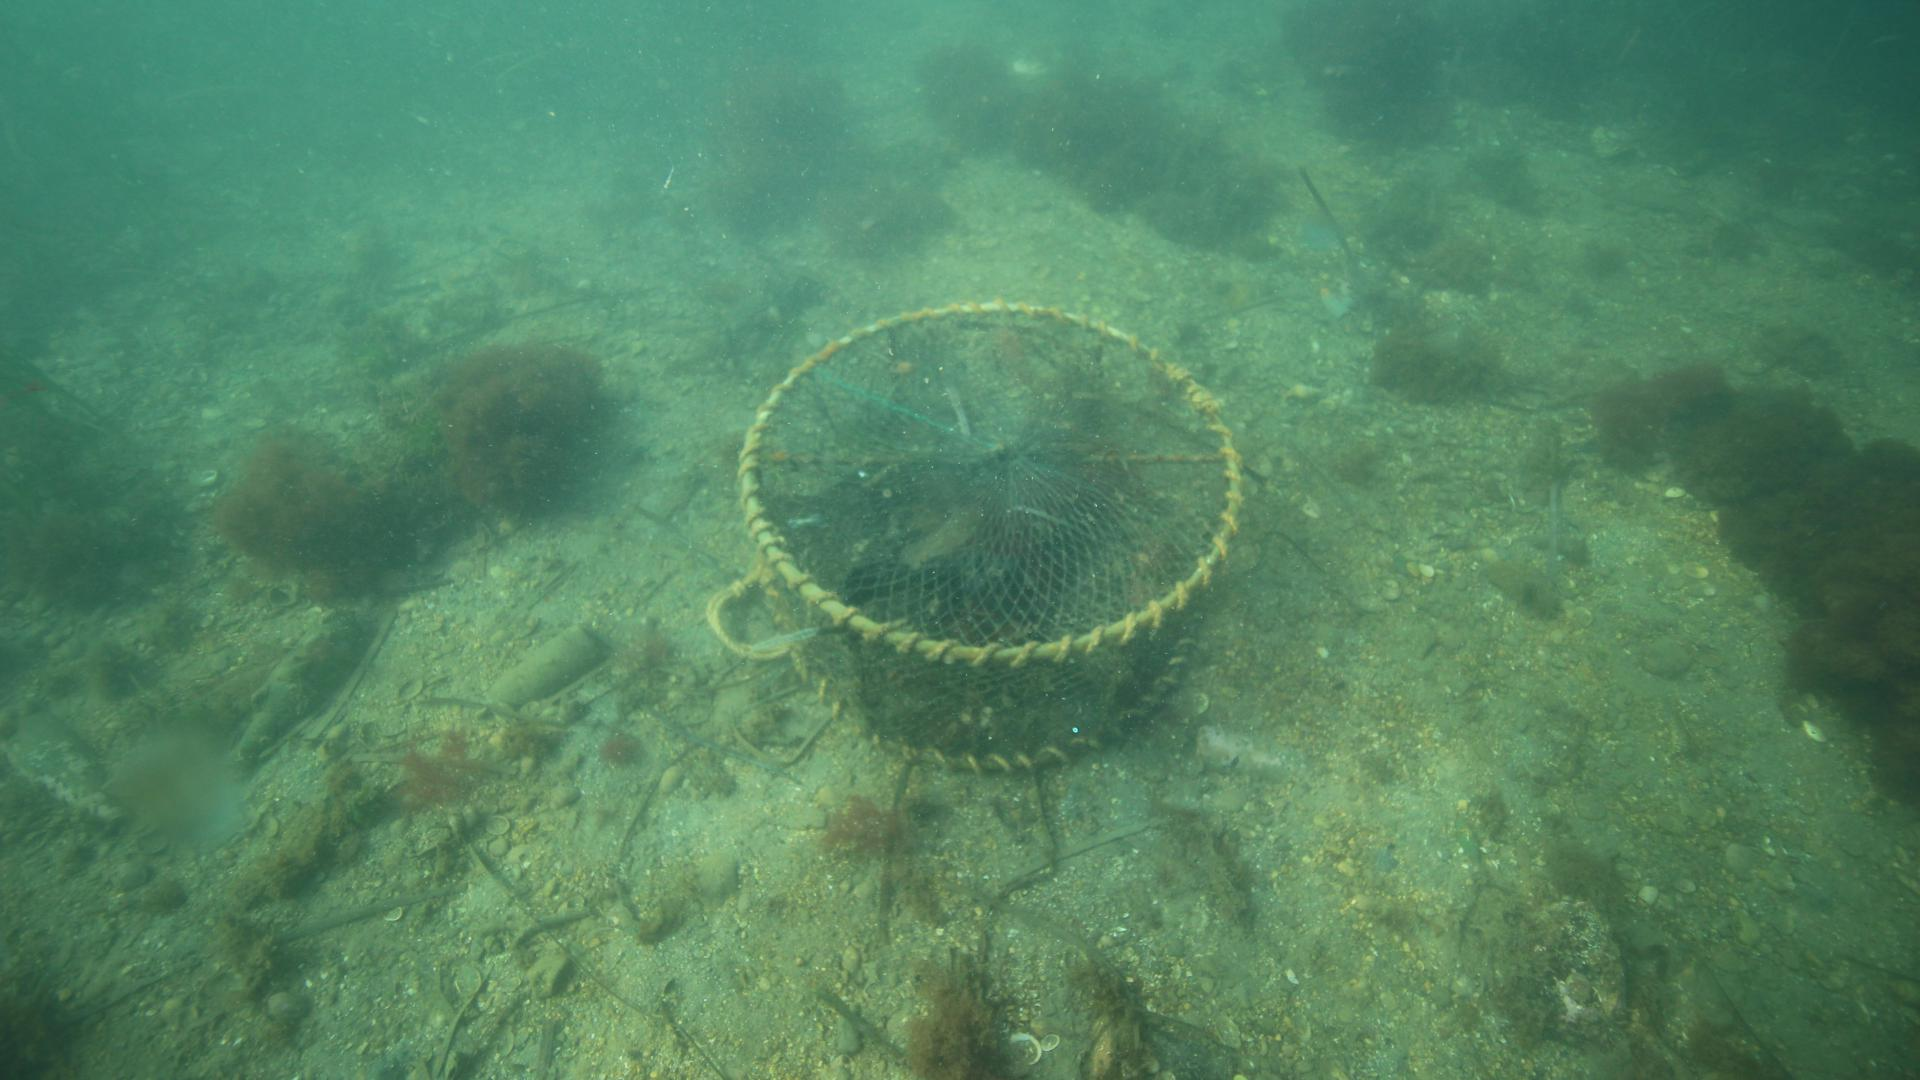bundle of ropes: (703, 575, 794, 665)
circular fish trap: (735, 295, 1246, 773)
